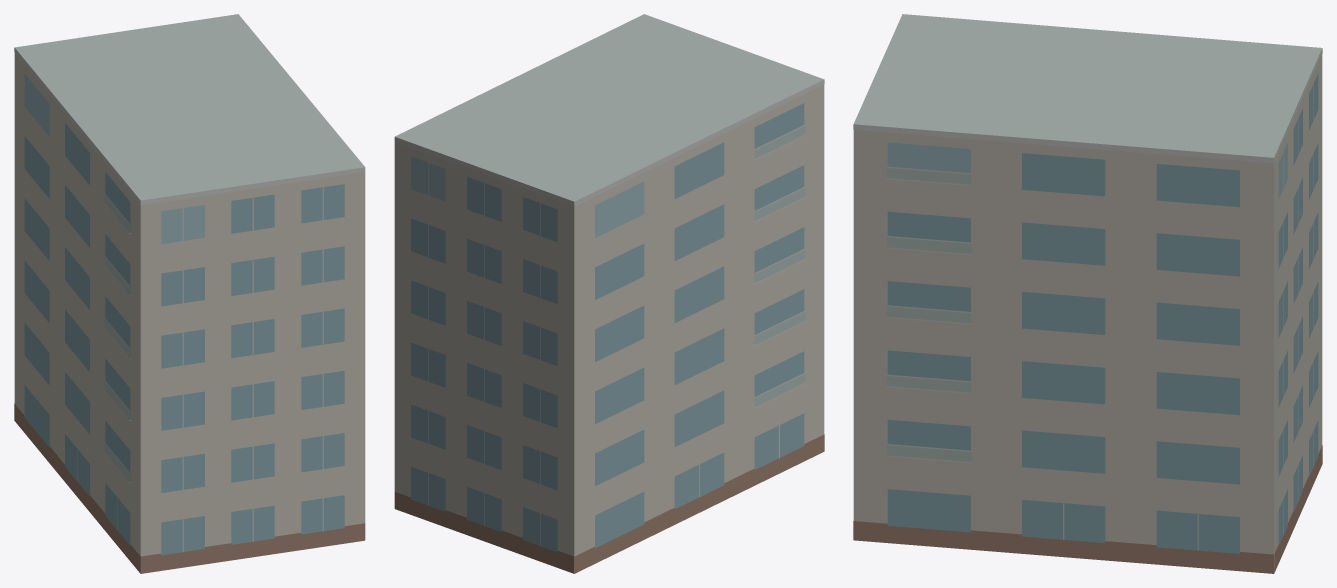
File: survey-upis-33012590.glb
The picture shows the model from 3 angles, left to right: view 1: azimuth 30°, elevation 25°; view 2: azimuth 150°, elevation 25°; view 3: azimuth 270°, elevation 25°; orthographic projection. The views are drawn at different scales.
Parts seen in each view (by area): view 1: survey-upis-33012590.tmp; view 2: survey-upis-33012590.tmp; view 3: survey-upis-33012590.tmp.
Boxes of the visible parts, x1=… form: survey-upis-33012590.tmp: x1=14, y1=14, x2=365, y2=573; survey-upis-33012590.tmp: x1=394, y1=14, x2=824, y2=573; survey-upis-33012590.tmp: x1=853, y1=14, x2=1322, y2=573.
Bounding box in the file's own units: 13.65 × 18.4 × 18.81.
